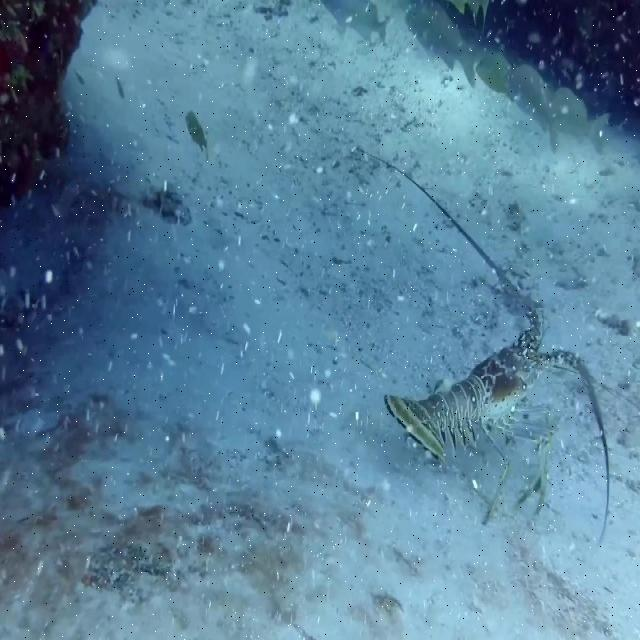reefs: (359, 147, 611, 538)
sea-floor: (2, 0, 99, 219)
